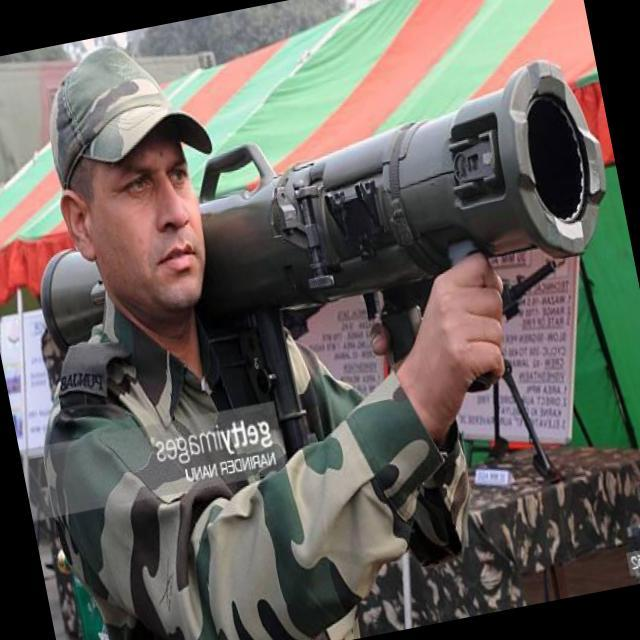rocket: (9, 38, 613, 364)
